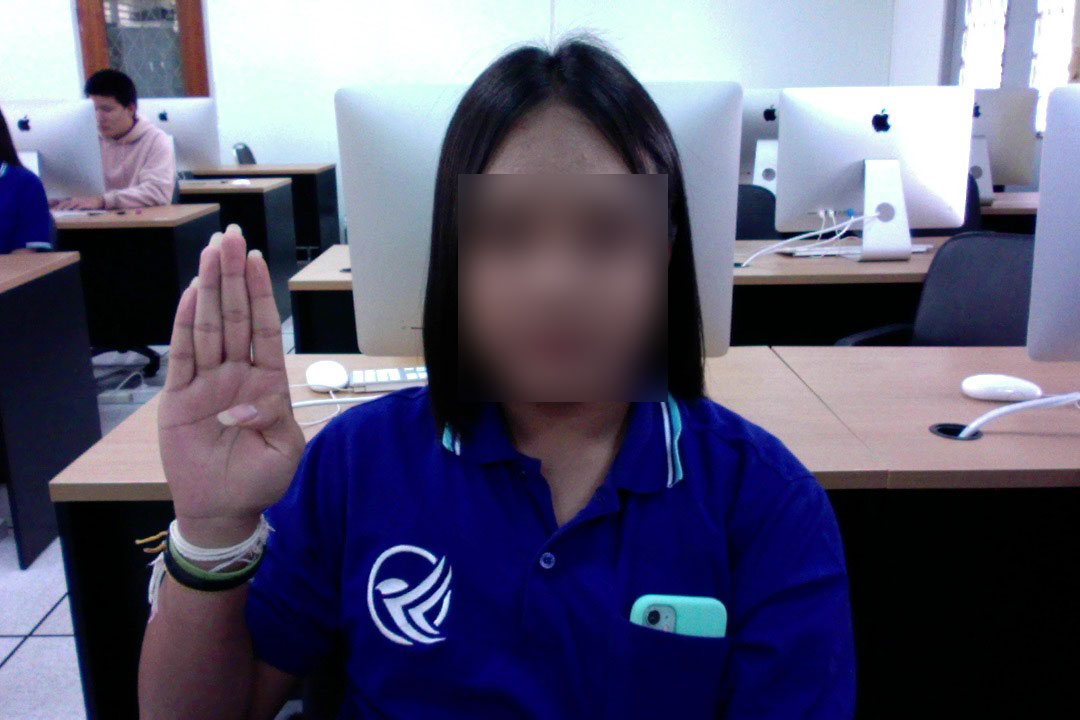bor: (151, 216, 310, 530)
